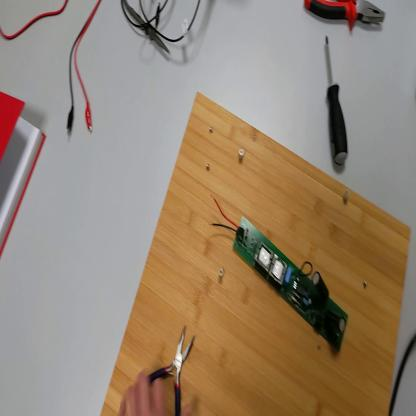hand: (116, 367, 169, 415)
high voltage board: (211, 192, 349, 362)
oscilloscope probe tip: (123, 4, 173, 59)
pliers: (157, 327, 198, 416), (304, 3, 388, 29)
register: (1, 66, 44, 257)
working area: (104, 89, 411, 415)
